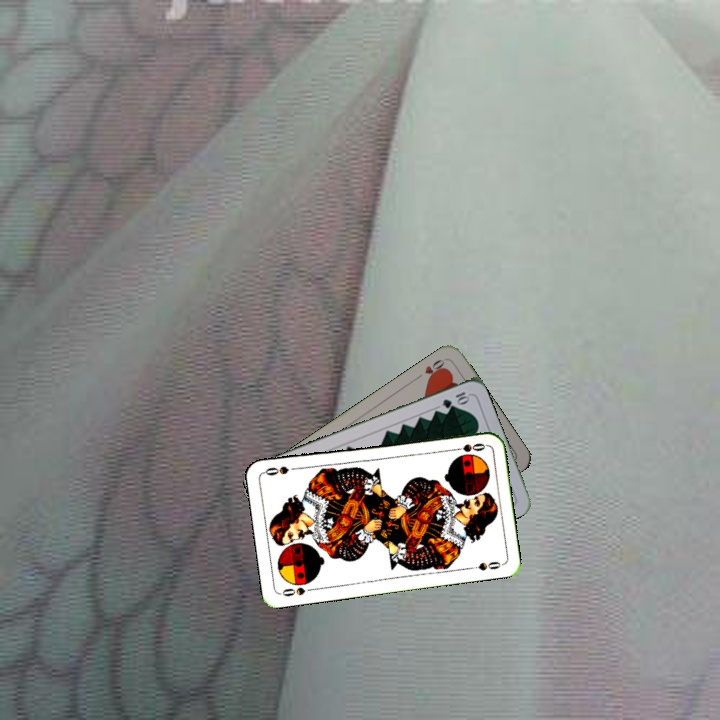G10: (438, 388, 472, 411)
HO: (412, 355, 448, 383)
SO: (277, 583, 317, 599), (448, 439, 488, 454)
